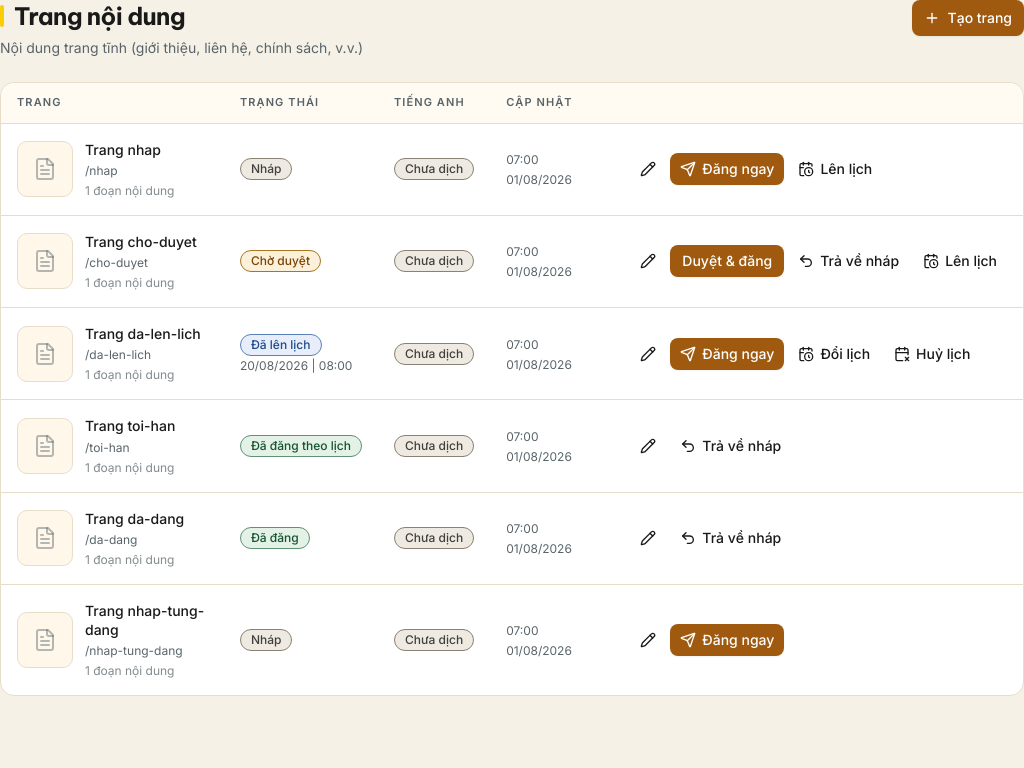
Scenario: lệnh lịch gọi đúng route › Đổi lịch nạp sẵn mốc hiện tại theo giờ Việt Nam
What coordinates should you click on to do the following:
click the button "Đổi lịch"
I would click on:
 (834, 354)
Its box is [788,338,880,370].
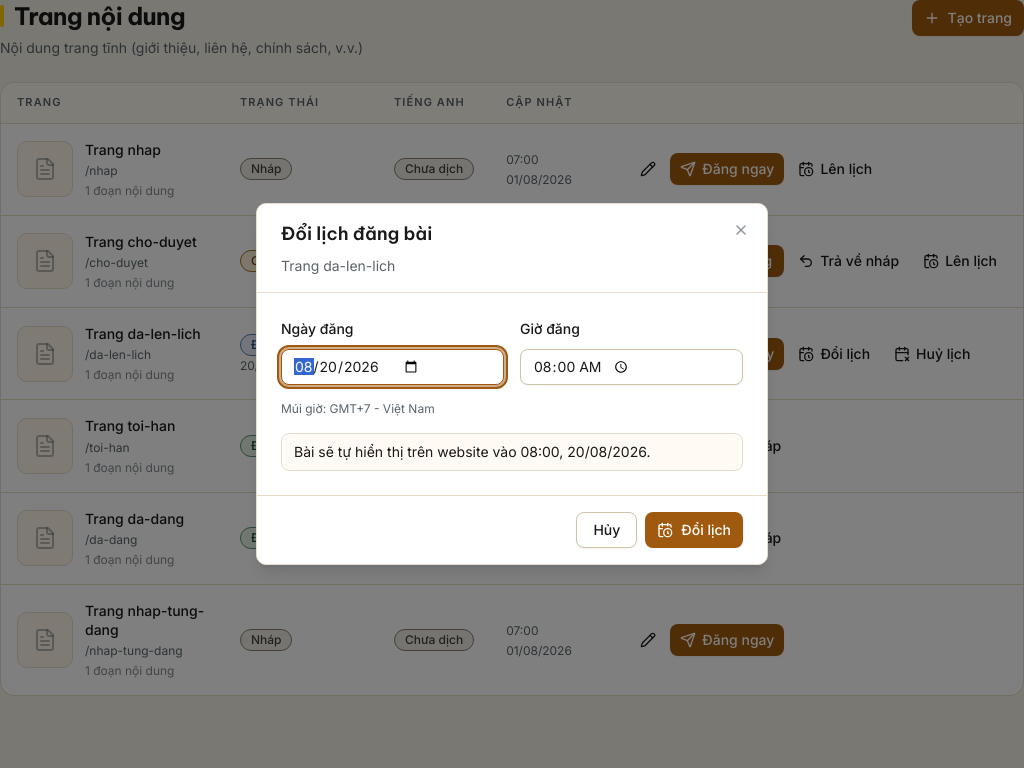
Check: the date field labelled "Ngày đăng" holds "2026-08-20", box [281,349,504,385]
Check: the time field labelled "Giờ đăng" holds "08:00", box [520,349,743,385]
